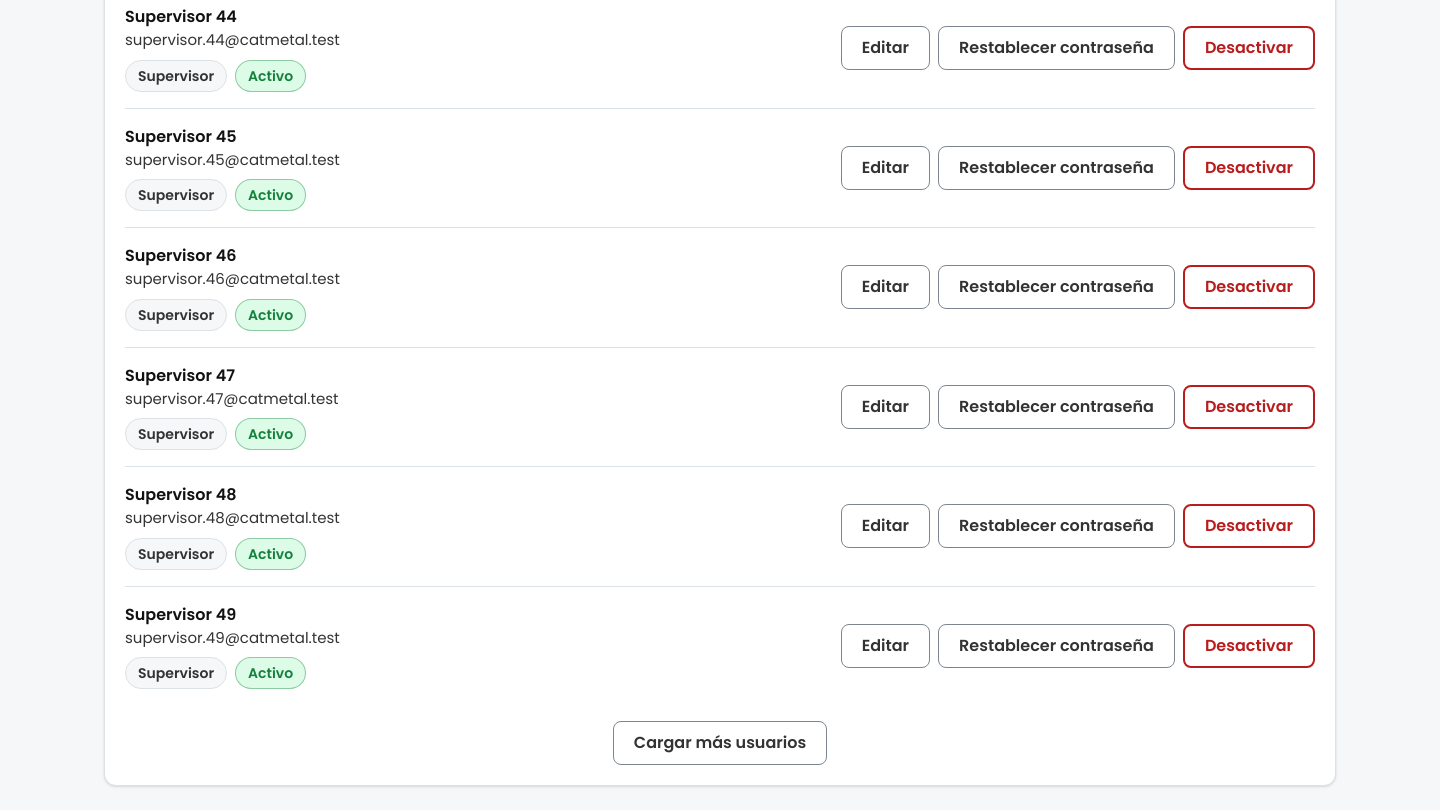
Test: Administración · usuarios › lista con rol y estado, y pagina por cursor con "Cargar más usuarios"
(page scrolled)
Click the button "Cargar más usuarios".
click(720, 743)  # box [613,721,827,765]
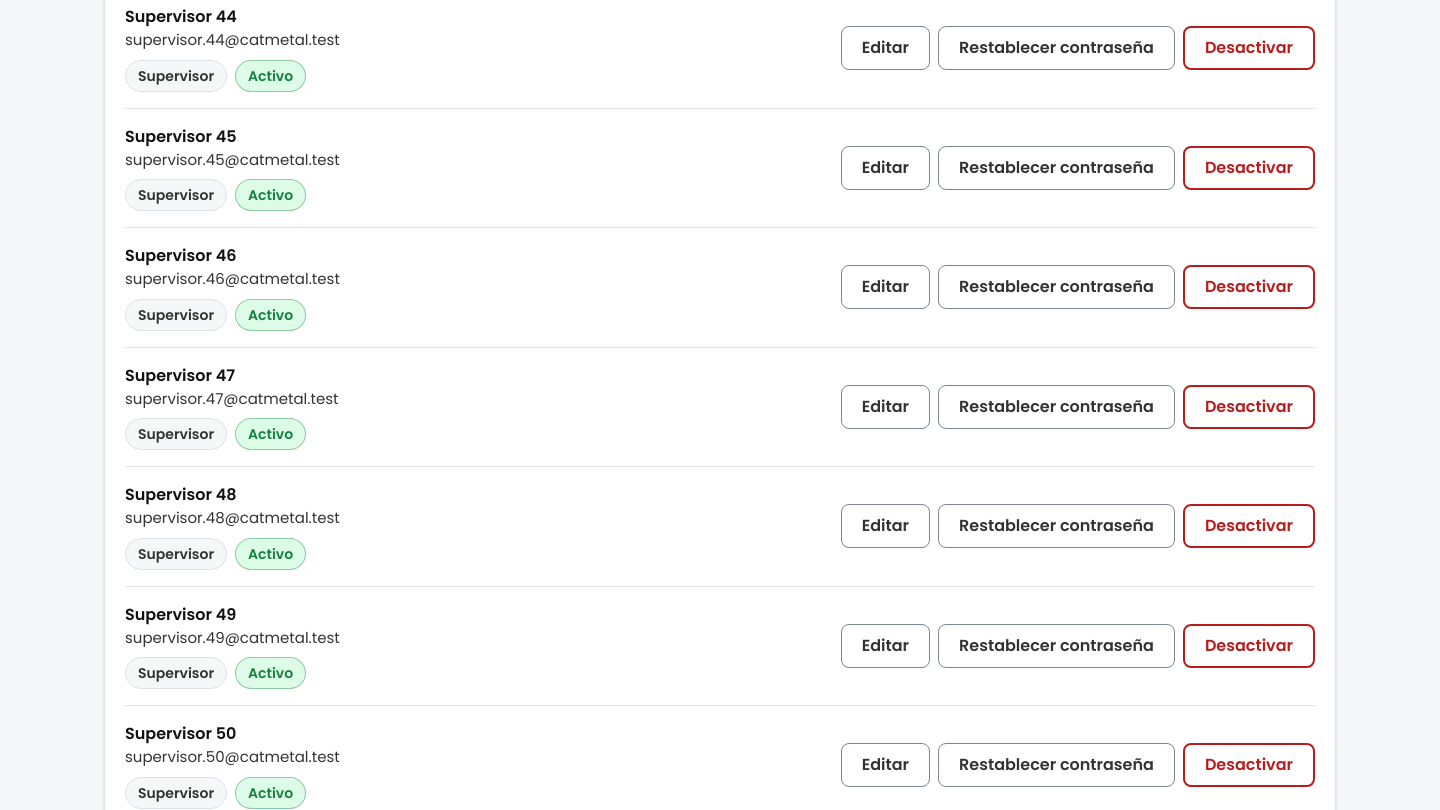
Expected: the button "Cargar más usuarios" is gone
